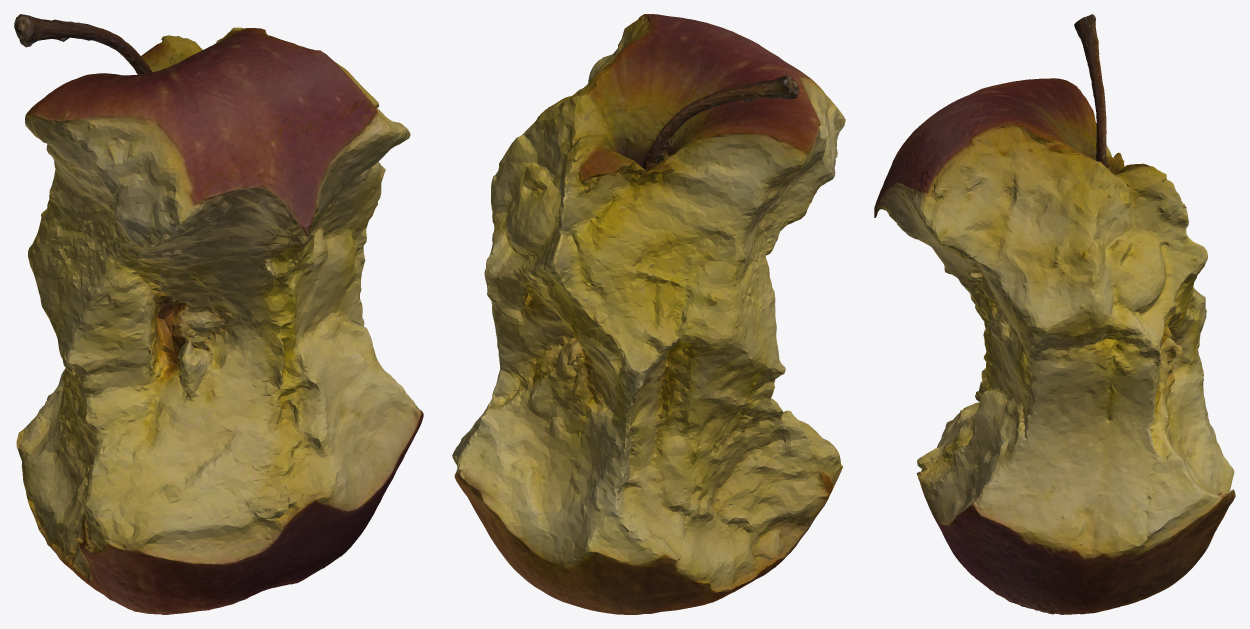
3 views of the same model, side by side, from view 1: azimuth 30°, elevation 25°; view 2: azimuth 150°, elevation 25°; view 3: azimuth 270°, elevation 25° (orthographic). The views are drawn at different scales.
Visible parts, largest first — view 1: Apple_08_Apple_8_u1_v1_0; view 2: Apple_08_Apple_8_u1_v1_0; view 3: Apple_08_Apple_8_u1_v1_0.
Part boxes in pixels (bbox=[...]): Apple_08_Apple_8_u1_v1_0: bbox=[14, 14, 423, 614]; Apple_08_Apple_8_u1_v1_0: bbox=[452, 14, 845, 614]; Apple_08_Apple_8_u1_v1_0: bbox=[874, 14, 1235, 614].
Size of the model in its own units: 20.8 by 32.59 by 21.78.
1 material, 1 textured.
